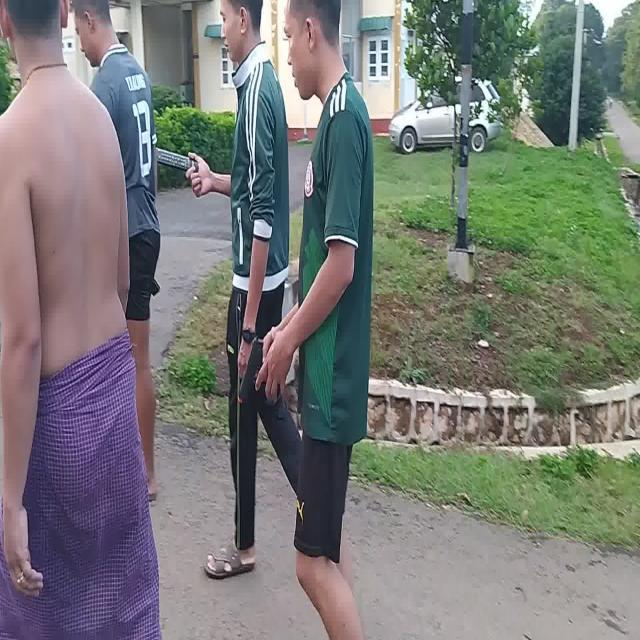gun: (239, 336, 266, 403)
